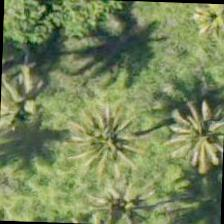Kelapa_Sawit: (48, 97, 142, 190), (143, 83, 223, 178), (0, 55, 67, 148)
